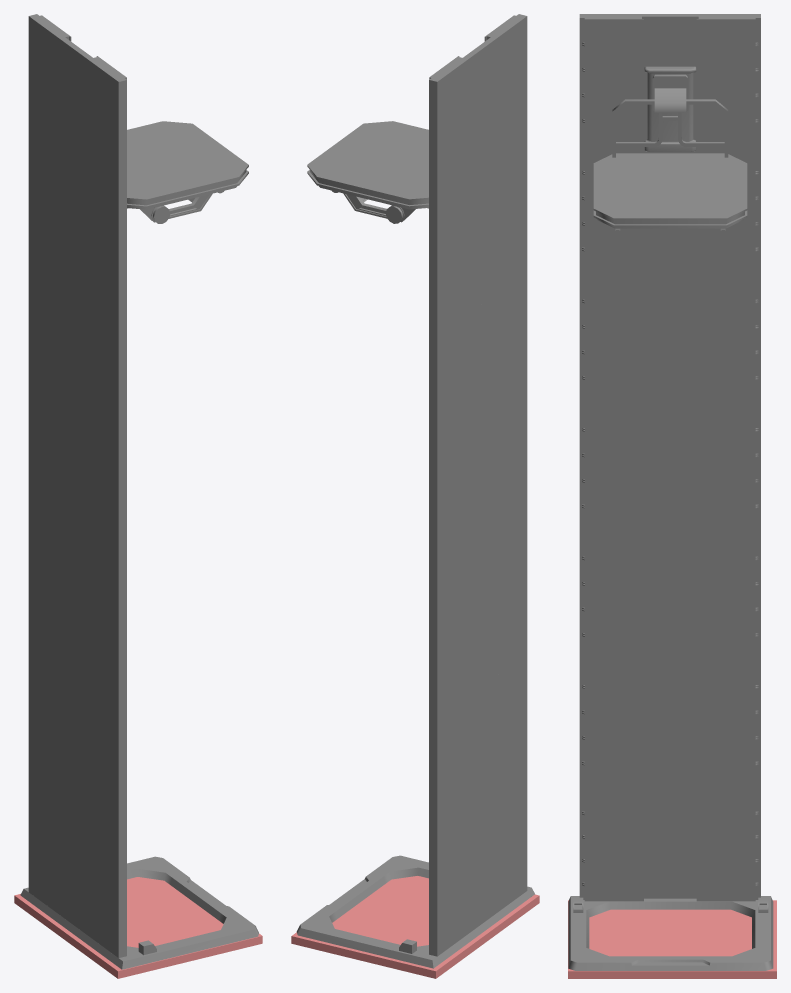
The model's file is S_Envi_Umeda_Game_elevator_01g.gltf.
3 views of the same model, side by side, from view 1: azimuth 30°, elevation 25°; view 2: azimuth 150°, elevation 25°; view 3: azimuth 270°, elevation 25° (orthographic).
Visible parts, largest first — view 1: S_Envi_Umeda_Game_elevator_01g; view 2: S_Envi_Umeda_Game_elevator_01g; view 3: S_Envi_Umeda_Game_elevator_01g.
Boxes of the visible parts, x1,y1,x2,y2 form: S_Envi_Umeda_Game_elevator_01g: [14, 14, 262, 978]; S_Envi_Umeda_Game_elevator_01g: [291, 14, 539, 978]; S_Envi_Umeda_Game_elevator_01g: [568, 14, 776, 978].
Bounding box in the file's own units: 2.33 × 12.9 × 2.72.
